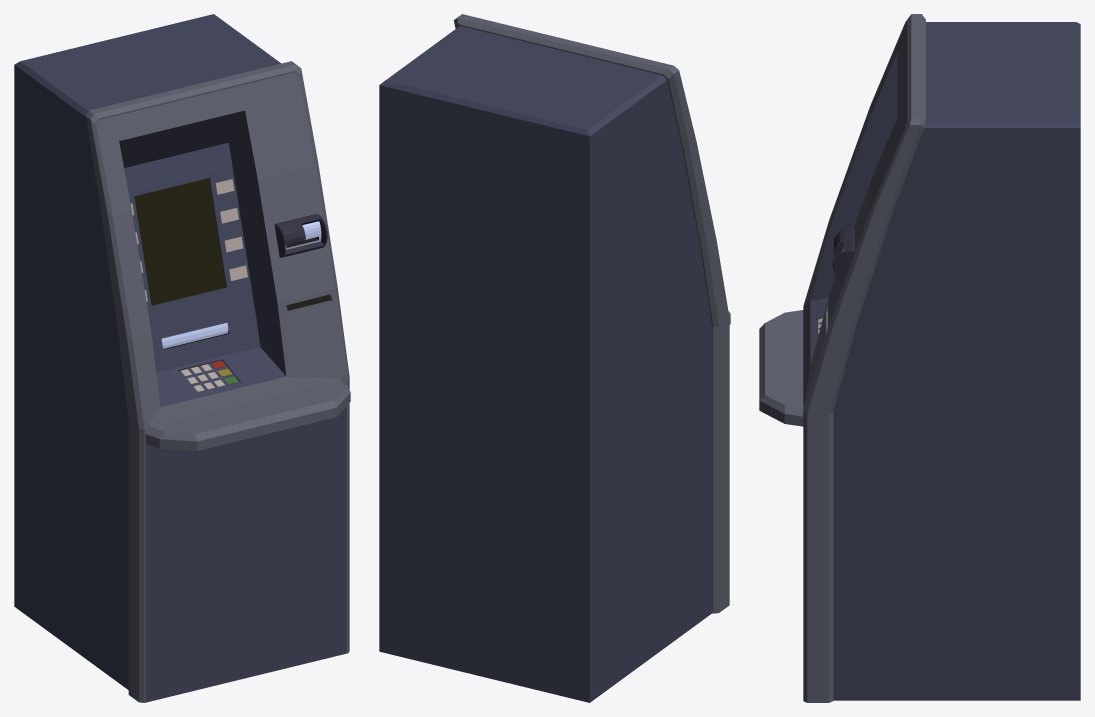
The model's file is low-poly-atm.fbx.
The picture shows the model from 3 angles, left to right: view 1: azimuth 30°, elevation 25°; view 2: azimuth 150°, elevation 25°; view 3: azimuth 270°, elevation 25°; orthographic projection. The views are drawn at different scales.
Parts seen in each view (by area): view 1: 5, 16, 38, 49, 71, 60; view 2: 5, 16; view 3: 5, 16, 71.
Part boxes in pixels (x1,y1,x2,y2): 5: (14, 14, 346, 702); 16: (85, 61, 350, 702); 38: (134, 178, 225, 305); 49: (130, 179, 247, 391); 71: (178, 214, 327, 382); 60: (161, 221, 321, 348); 5: (379, 26, 712, 702); 16: (453, 14, 730, 613); 5: (810, 22, 1080, 700); 16: (759, 14, 925, 702); 71: (816, 228, 854, 319).
Bounding box in the file's own units: 40 × 100 × 50.
